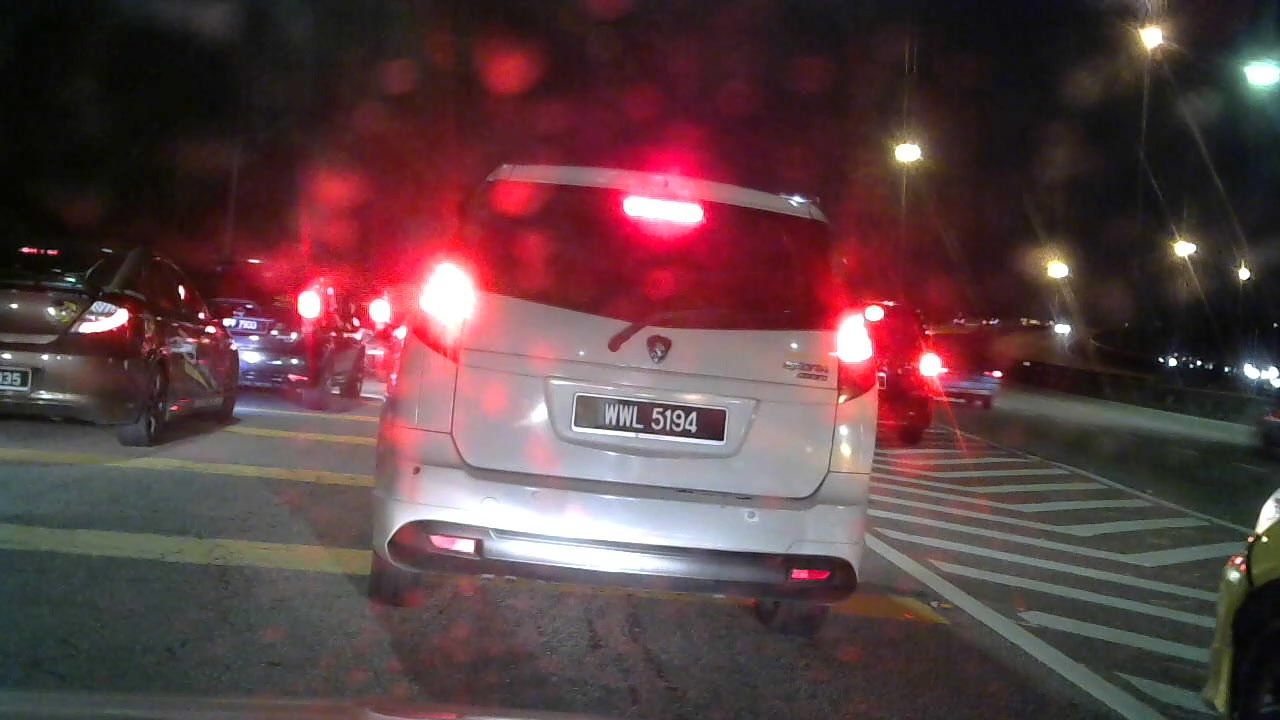Car: (399, 158, 880, 629), (1, 231, 247, 443), (207, 243, 368, 401), (1178, 473, 1280, 714), (838, 284, 935, 444), (928, 330, 1012, 408)
